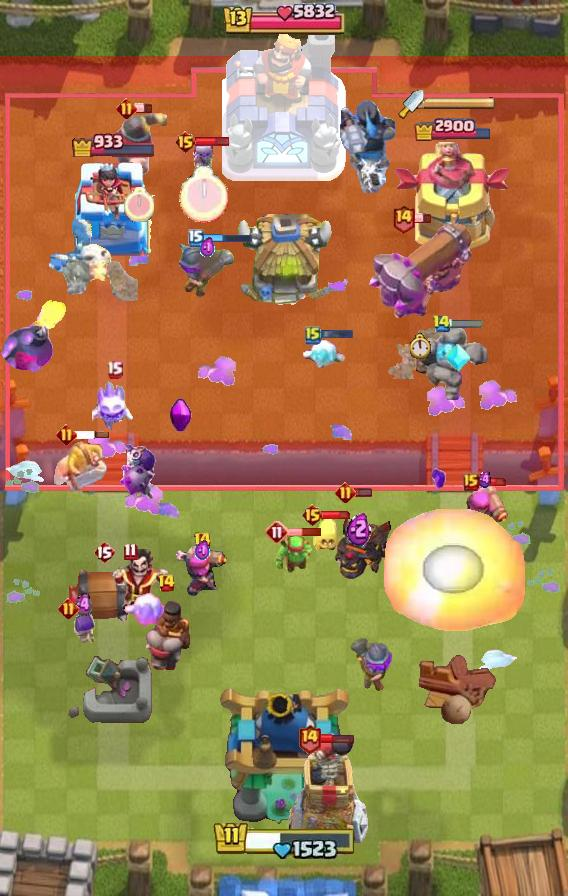bar: (201, 232, 253, 244), (320, 733, 355, 744), (319, 329, 354, 340), (449, 318, 484, 329), (195, 136, 230, 147), (74, 430, 110, 440), (287, 527, 322, 537), (321, 510, 353, 520), (477, 477, 509, 487), (354, 487, 373, 498), (413, 213, 432, 224), (134, 103, 153, 114)
bar-level: (297, 723, 322, 754), (391, 203, 416, 234), (265, 520, 289, 544), (301, 503, 324, 527), (174, 130, 197, 154), (93, 540, 115, 564), (58, 598, 79, 619), (335, 482, 356, 503), (56, 424, 77, 445), (116, 98, 137, 119), (157, 573, 176, 593), (193, 531, 212, 551), (432, 314, 451, 333), (106, 360, 123, 379), (305, 325, 321, 345), (463, 473, 479, 491), (188, 229, 204, 247), (123, 542, 138, 561)
barbarian-barrel: (64, 565, 144, 625)
bomb: (0, 298, 72, 372)
bomber-evolution: (118, 444, 158, 502)
clock: (179, 166, 228, 223), (124, 187, 154, 222), (410, 333, 432, 359)
dagger-duchess-tower: (394, 142, 512, 256)
dagger-duchess-tower-bar: (424, 97, 496, 111)
dirt: (382, 328, 446, 379), (100, 261, 138, 301)
electro-wizard: (109, 549, 171, 625)
elite-barbarian: (54, 440, 107, 492)
elixir: (347, 510, 371, 546), (75, 592, 92, 618), (195, 540, 210, 562), (200, 237, 215, 259), (477, 471, 493, 488)
evolution-symbol: (168, 398, 194, 432)
firecracker: (173, 544, 231, 598), (461, 479, 509, 533)
golemite: (416, 328, 492, 406)
heal-spirit: (312, 513, 342, 559)
ice-spirit: (302, 337, 348, 373)
ice-spirit-evolution: (92, 377, 136, 431), (122, 592, 172, 630)
ice-spirit-evolution-symbol: (443, 342, 471, 374)
king-tower: (216, 684, 352, 826), (222, 31, 346, 181)
king-tower-bar: (212, 817, 356, 859), (221, 0, 347, 40)
knight: (111, 108, 167, 176)
musketeer: (177, 242, 237, 300), (348, 636, 392, 692)
queen-tower: (69, 158, 159, 256)
ram-rider: (140, 598, 192, 672)
skeleton-evolution: (187, 139, 219, 179), (68, 612, 98, 652)
spear-goblin: (274, 531, 314, 575)
tower-bar: (71, 130, 157, 157), (413, 116, 493, 141)
